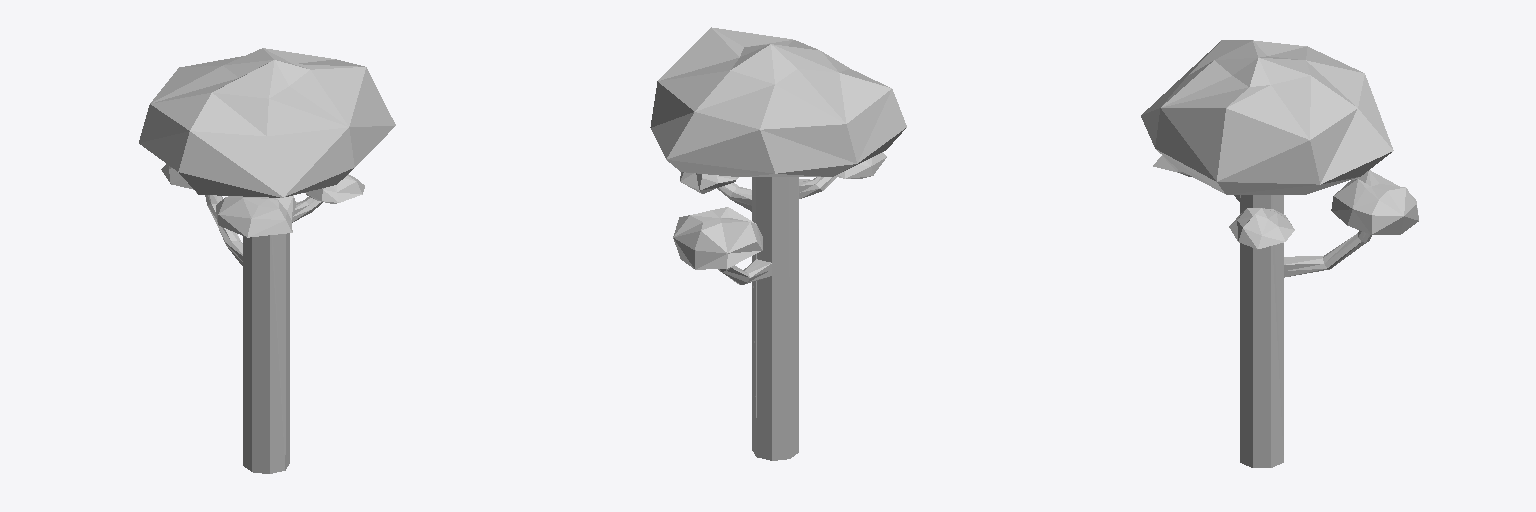
Rendered from jungle_tree.obj.
3 views of the same model, side by side, from view 1: azimuth 30°, elevation 25°; view 2: azimuth 150°, elevation 25°; view 3: azimuth 270°, elevation 25° (orthographic).
Visible parts, largest first — view 1: Cylinder; view 2: Cylinder; view 3: Cylinder.
Boxes of the visible parts, <box> form: Cylinder: <box>139,48,395,473</box>; Cylinder: <box>650,27,906,460</box>; Cylinder: <box>1141,40,1418,467</box>.
Size of the model in its own units: 0.2863 by 0.5099 by 0.3185.